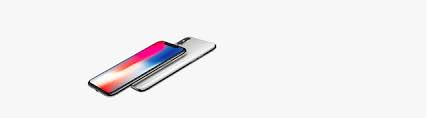iphone: (83, 36, 190, 99)
iphone10: (84, 36, 191, 99)
